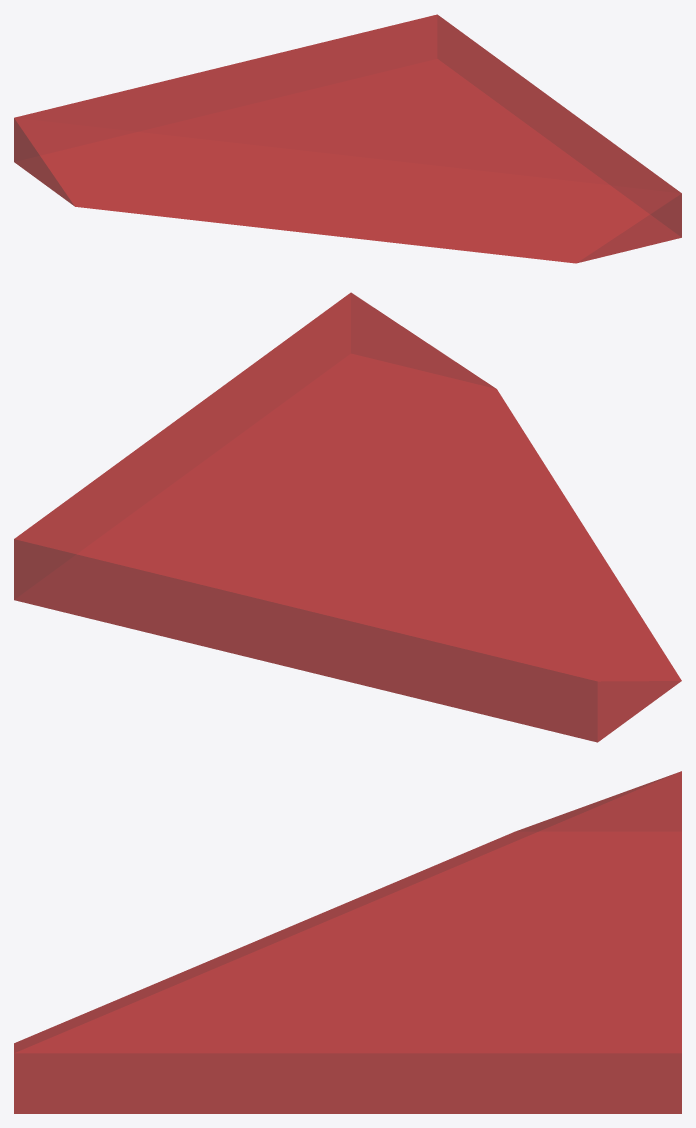
The model's file is SM_Env_Dwarf_Stairs_Small_Corner_01_Collision.fbx.
3 renders of one model, top to bottom at view 1: azimuth 30°, elevation 25°; view 2: azimuth 150°, elevation 25°; view 3: azimuth 270°, elevation 25°, orthographic. The views are drawn at different scales.
Parts seen in each view (by area): view 1: SM_Env_Dwarf_Stairs_Small_Corner_01_Collision; view 2: SM_Env_Dwarf_Stairs_Small_Corner_01_Collision; view 3: SM_Env_Dwarf_Stairs_Small_Corner_01_Collision.
Part boxes in pixels (x1,y1,x2,y2): SM_Env_Dwarf_Stairs_Small_Corner_01_Collision: [14, 14, 681, 263]; SM_Env_Dwarf_Stairs_Small_Corner_01_Collision: [14, 292, 681, 742]; SM_Env_Dwarf_Stairs_Small_Corner_01_Collision: [14, 771, 681, 1113].
Bounding box in the file's own units: 500 × 50 × 500.
